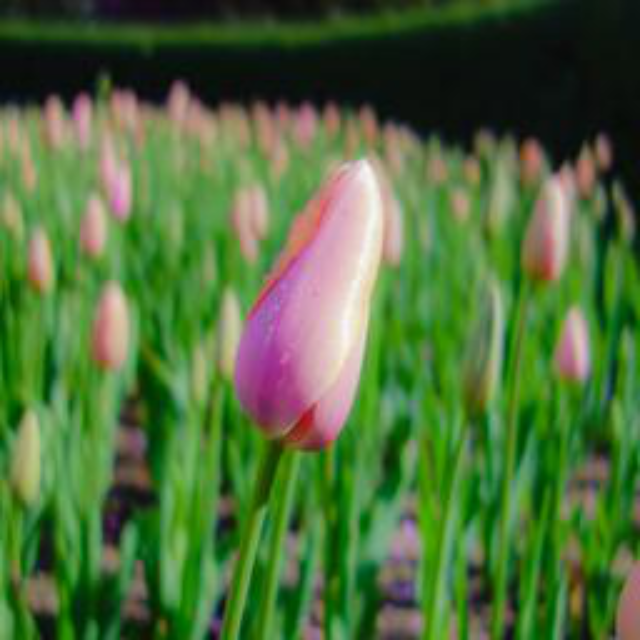tulip: (226, 153, 388, 456), (520, 173, 573, 287), (90, 281, 134, 373)
